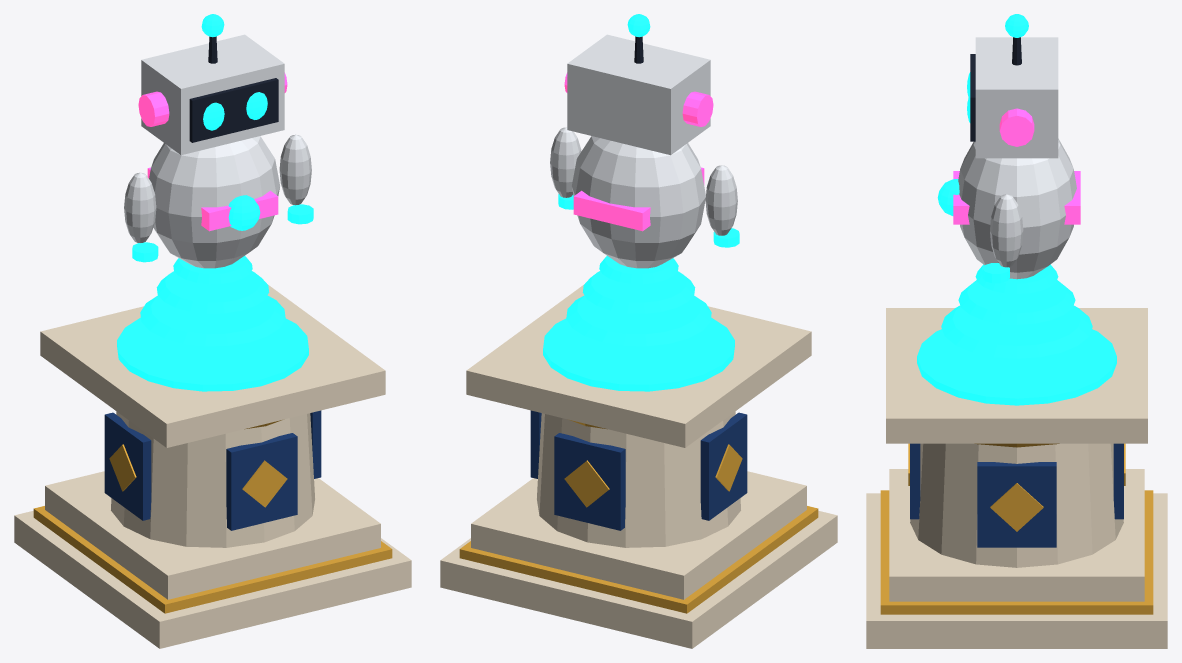
File: statue-robot.glb
The picture shows the model from 3 angles, left to right: view 1: azimuth 30°, elevation 25°; view 2: azimuth 150°, elevation 25°; view 3: azimuth 270°, elevation 25°; orthographic projection. The views are drawn at different scales.
Visible parts, largest first — view 1: Pedestal_Marble.003, Statue_Robot_Shell, Statue_Glow_Cyan.001, Pedestal_Blue.003, Pedestal_Gold.003, Statue_Robot_Visor, Statue_Robot_Accent; view 2: Pedestal_Marble.003, Statue_Robot_Shell, Statue_Glow_Cyan.001, Pedestal_Blue.003, Pedestal_Gold.003, Statue_Robot_Accent; view 3: Pedestal_Marble.003, Statue_Glow_Cyan.001, Statue_Robot_Shell, Pedestal_Gold.003, Pedestal_Blue.003, Statue_Robot_Accent, Statue_Robot_Visor.
Boxes of the visible parts, <box> form: Pedestal_Marble.003: <box>14,284,411,648</box>; Statue_Robot_Shell: <box>124,34,311,268</box>; Statue_Glow_Cyan.001: <box>117,14,313,391</box>; Pedestal_Blue.003: <box>104,410,321,530</box>; Pedestal_Gold.003: <box>33,420,392,613</box>; Statue_Robot_Visor: <box>189,36,278,142</box>; Statue_Robot_Accent: <box>138,72,287,231</box>; Pedestal_Marble.003: <box>440,284,837,648</box>; Statue_Robot_Shell: <box>550,34,737,268</box>; Statue_Glow_Cyan.001: <box>543,14,739,391</box>; Pedestal_Blue.003: <box>530,410,747,530</box>; Pedestal_Gold.003: <box>459,420,818,613</box>; Statue_Robot_Accent: <box>564,72,713,231</box>; Pedestal_Marble.003: <box>866,308,1167,648</box>; Statue_Glow_Cyan.001: <box>917,14,1116,405</box>; Statue_Robot_Shell: <box>958,37,1076,279</box>; Pedestal_Gold.003: <box>880,443,1153,614</box>; Pedestal_Blue.003: <box>910,443,1123,547</box>; Statue_Robot_Accent: <box>953,108,1080,224</box>; Statue_Robot_Visor: <box>970,37,1021,141</box>.
Bounding box in the file's own units: 1.75 × 3.65 × 1.75.
